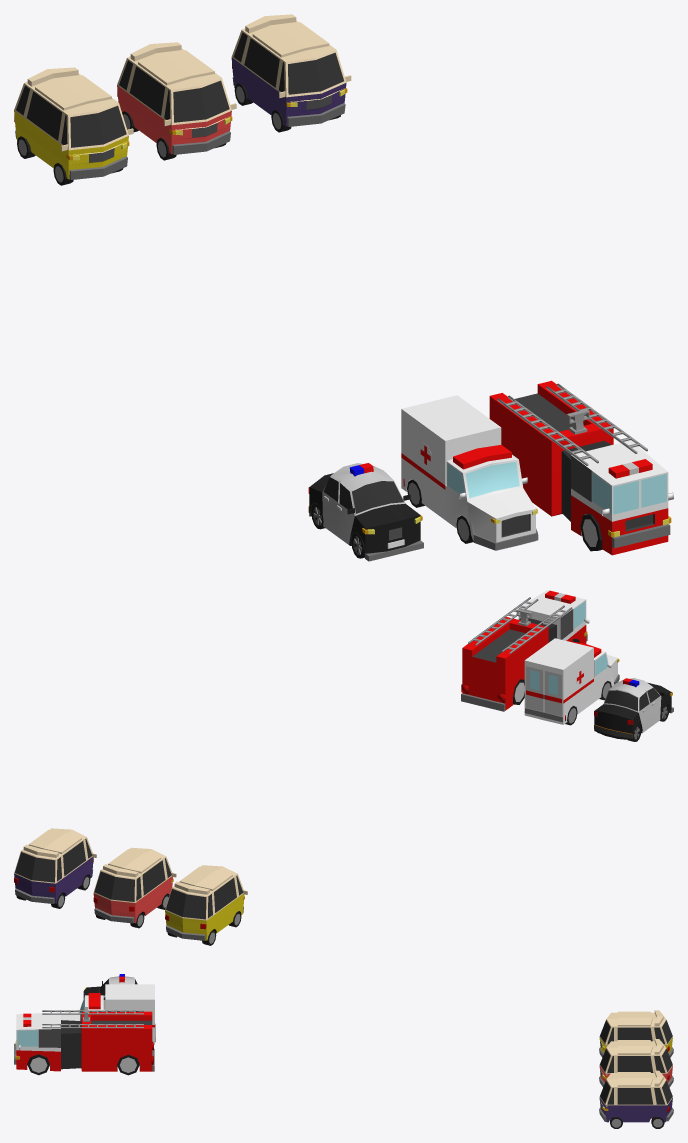
File: car5.fbx
The picture shows the model from 3 angles, top to bottom: view 1: azimuth 30°, elevation 25°; view 2: azimuth 150°, elevation 25°; view 3: azimuth 270°, elevation 25°; orthographic projection. The views are drawn at different scales.
Visible parts, largest first — view 1: Cube.089, Cube, Cube.261, Cube.263, Cube.262, Cube.057, Cube.093, Cube.094; view 2: Cube.089, Cube, Cube.263, Cube.261, Cube.262, Cube.057; view 3: Cube.089, Cube.263, Cube.262, Cube.261, Cube, Cube.057, Cube.094, Cube.093.
Part boxes in pixels (x1,y1,x2,y2): Cube.089: (489,380,670,555); Cube: (401,395,538,550); Cube.261: (14,67,133,185); Cube.263: (231,14,351,132); Cube.262: (117,42,236,160); Cube.057: (308,463,423,561); Cube.093: (497,395,598,465); Cube.094: (546,383,647,453); Cube.089: (461,590,587,711); Cube: (524,638,619,724); Cube.263: (14,828,96,908); Cube.261: (165,865,247,945); Cube.262: (93,847,176,928); Cube.057: (594,678,673,741); Cube.089: (14,1007,154,1075); Cube.263: (599,1070,673,1128); Cube.262: (599,1039,673,1087); Cube.261: (599,1010,673,1057); Cube: (61,984,155,1044); Cube.057: (83,974,137,1009); Cube.094: (42,1024,143,1028); Cube.093: (42,1010,143,1014).
Bounding box in the file's own units: 2153 × 463 × 4848.
Materials: 3 (3 with a texture image).
